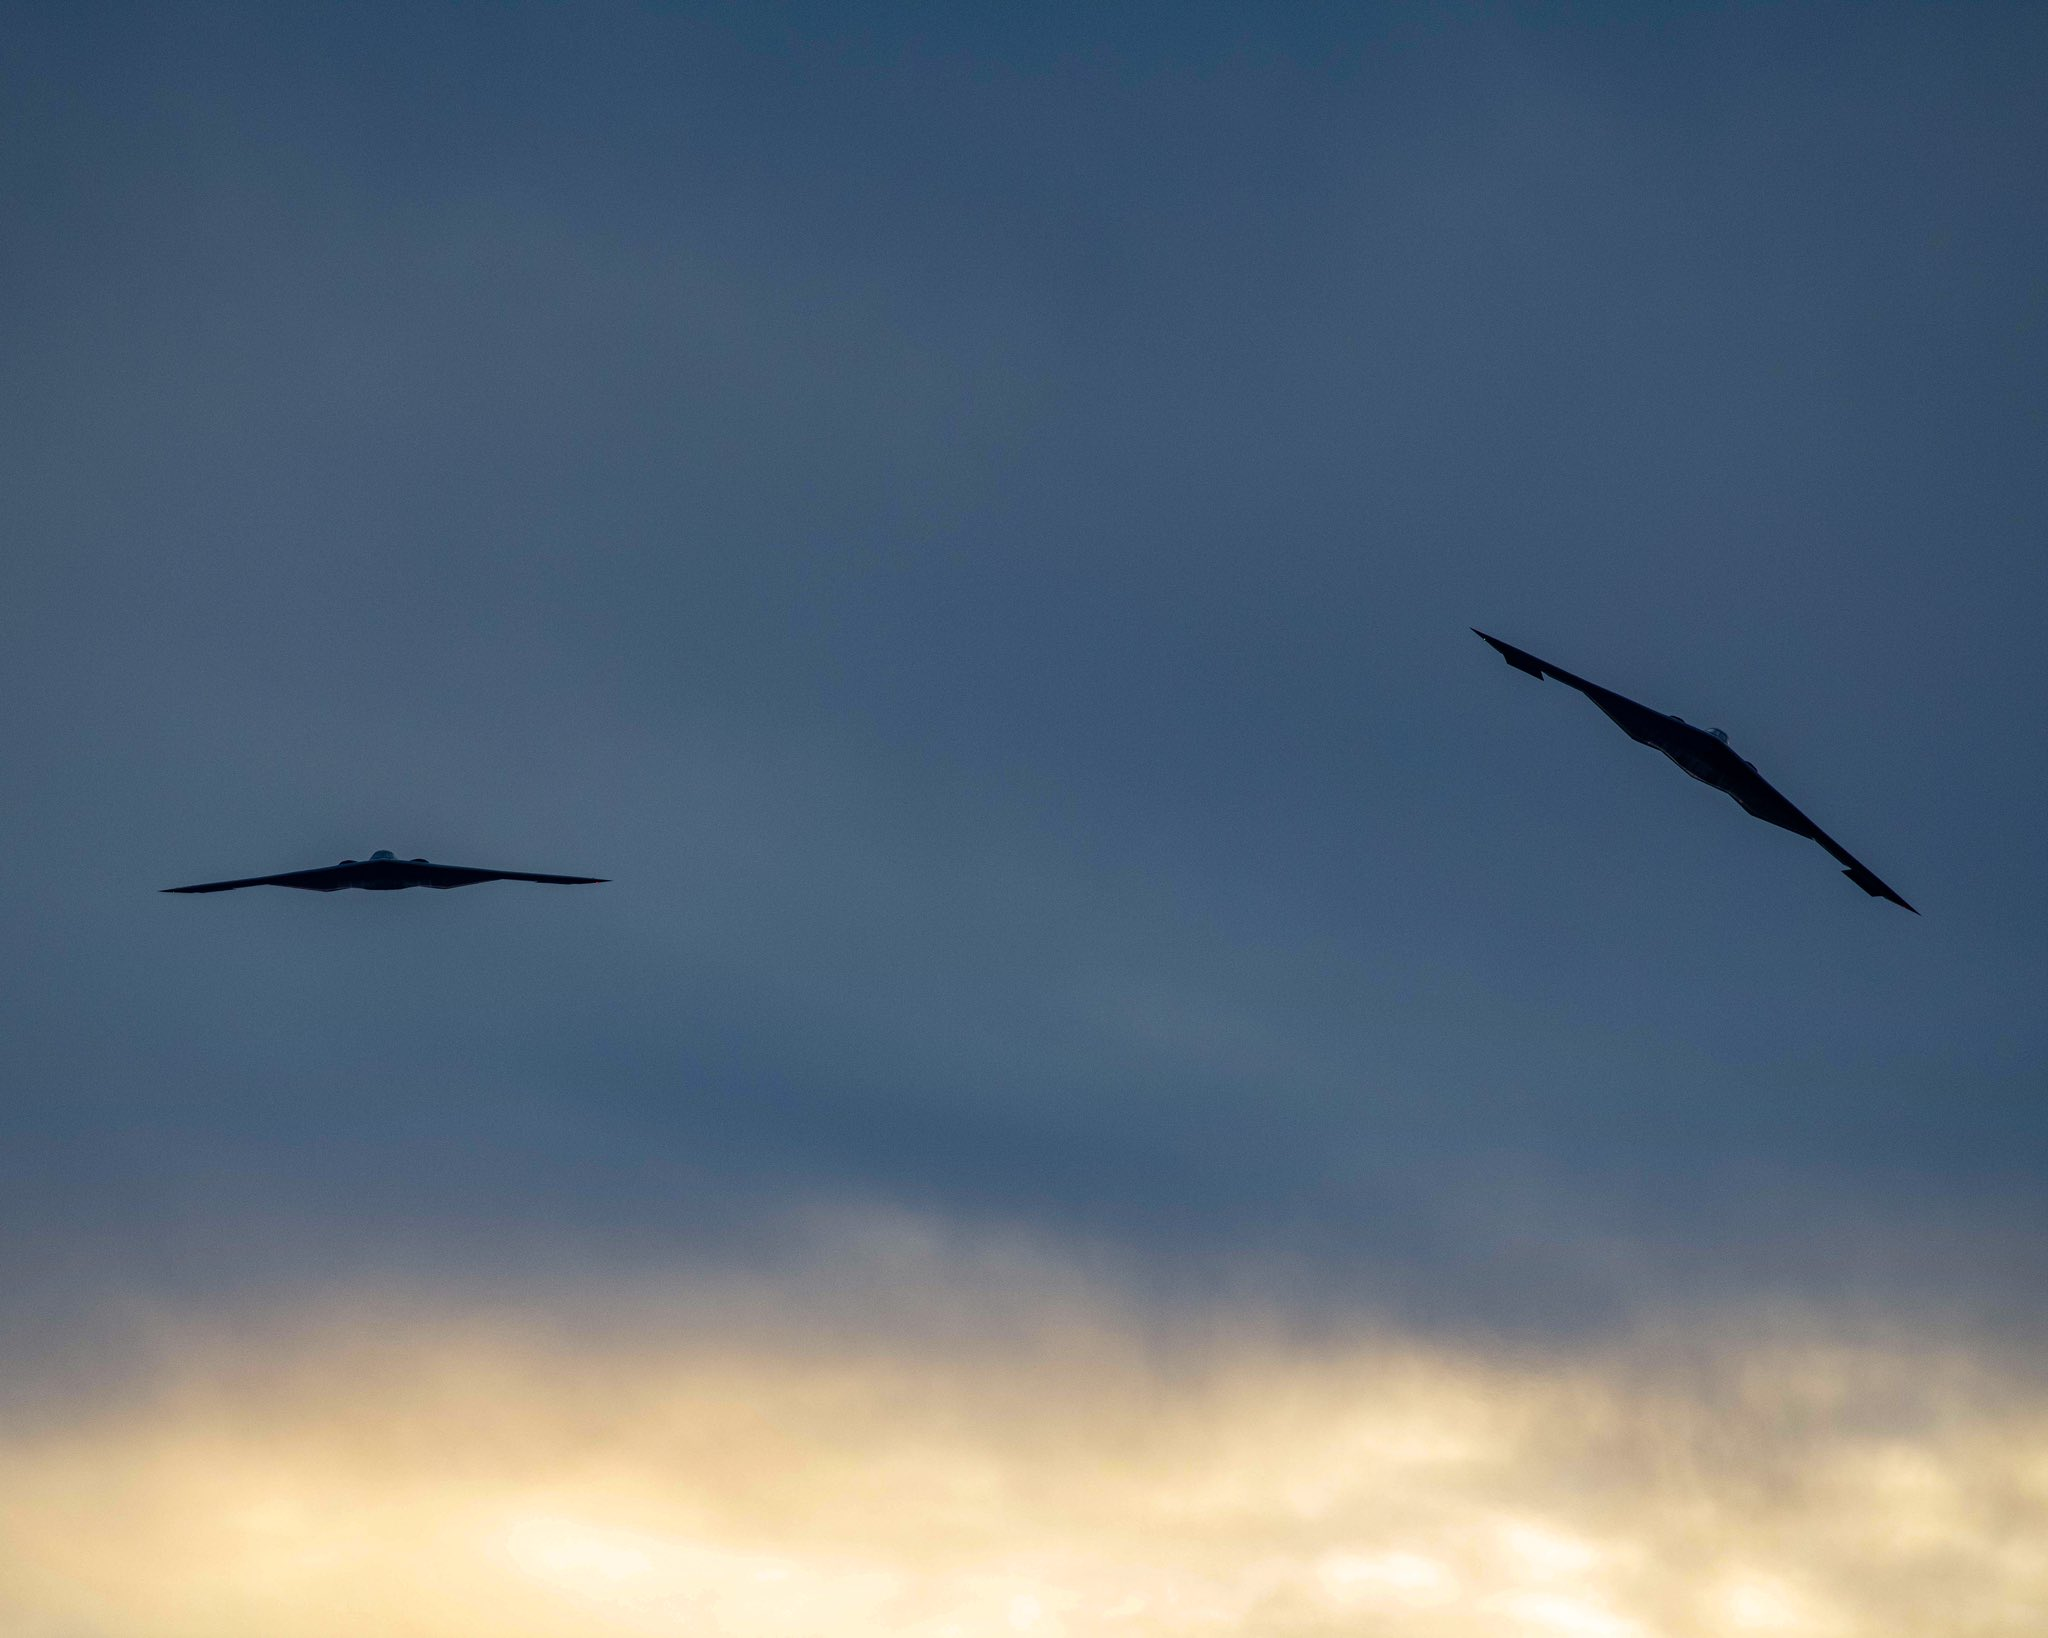B2: (1468, 627, 1924, 918), (155, 849, 614, 894)
